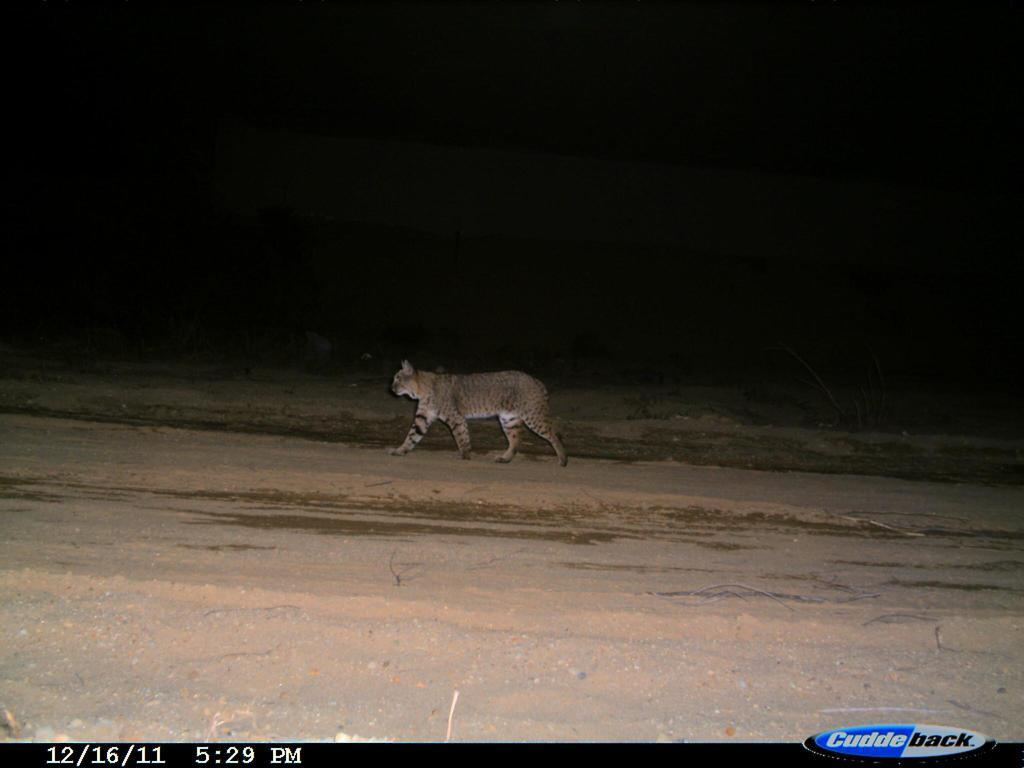bobcat: (381, 353, 579, 475)
